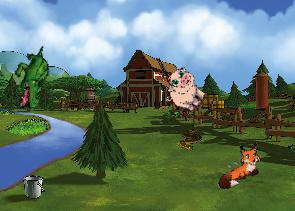crocodile: (10, 46, 54, 110)
fox: (208, 139, 269, 192)
pig: (158, 63, 214, 118)
